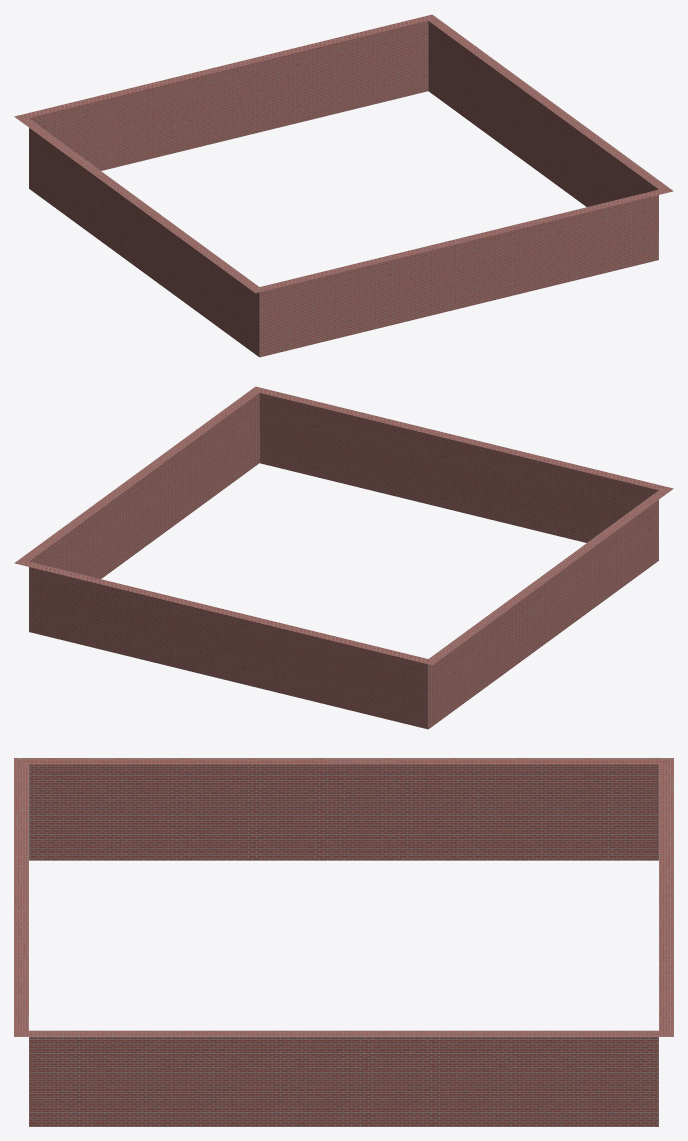
Rendered from wall_outisde.fbx.
The picture shows the model from 3 angles, top to bottom: view 1: azimuth 30°, elevation 25°; view 2: azimuth 150°, elevation 25°; view 3: azimuth 270°, elevation 25°; orthographic projection. The views are drawn at different scales.
Parts seen in each view (by area): view 1: pCube150; view 2: pCube150; view 3: pCube150.
Boxes of the visible parts, x1,y1,x2,y2 form: pCube150: (14,14,673,357); pCube150: (14,386,673,729); pCube150: (14,758,673,1126).
Bounding box in the file's own units: 1031 × 166 × 1031.
1 material, 1 textured.
